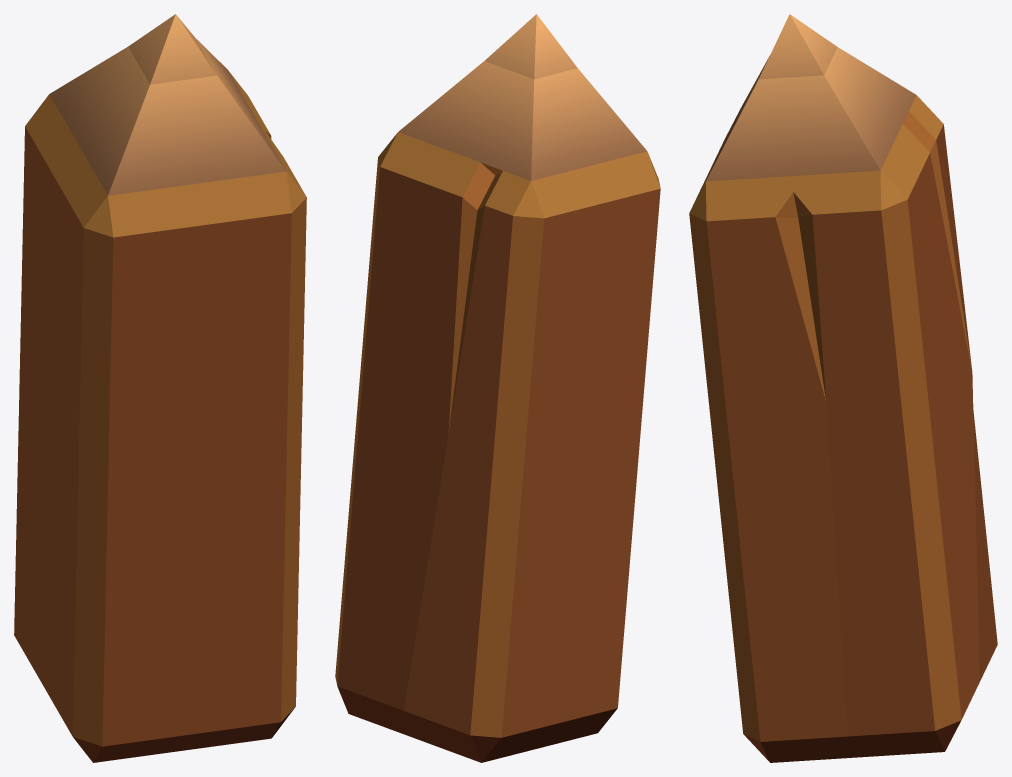
Rendered from m_deco_fence_bent.FBX.
3 renders of one model, left to right at view 1: azimuth 30°, elevation 25°; view 2: azimuth 150°, elevation 25°; view 3: azimuth 270°, elevation 25°, orthographic. The views are drawn at different scales.
Visible parts, largest first — view 1: m_deco_fence_bent; view 2: m_deco_fence_bent; view 3: m_deco_fence_bent.
Boxes of the visible parts, x1,y1,x2,y2 form: m_deco_fence_bent: (14, 14, 306, 762); m_deco_fence_bent: (335, 14, 660, 762); m_deco_fence_bent: (689, 14, 997, 762).
Size of the model in its own units: 0.8228 by 2.33 by 0.9193.
